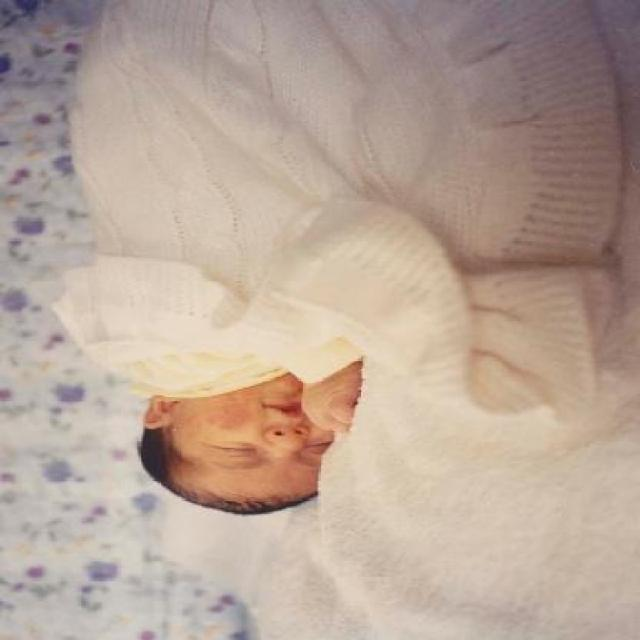non-dog: (49, 0, 640, 515)
